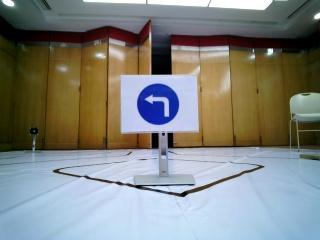left: (120, 76, 196, 131)
